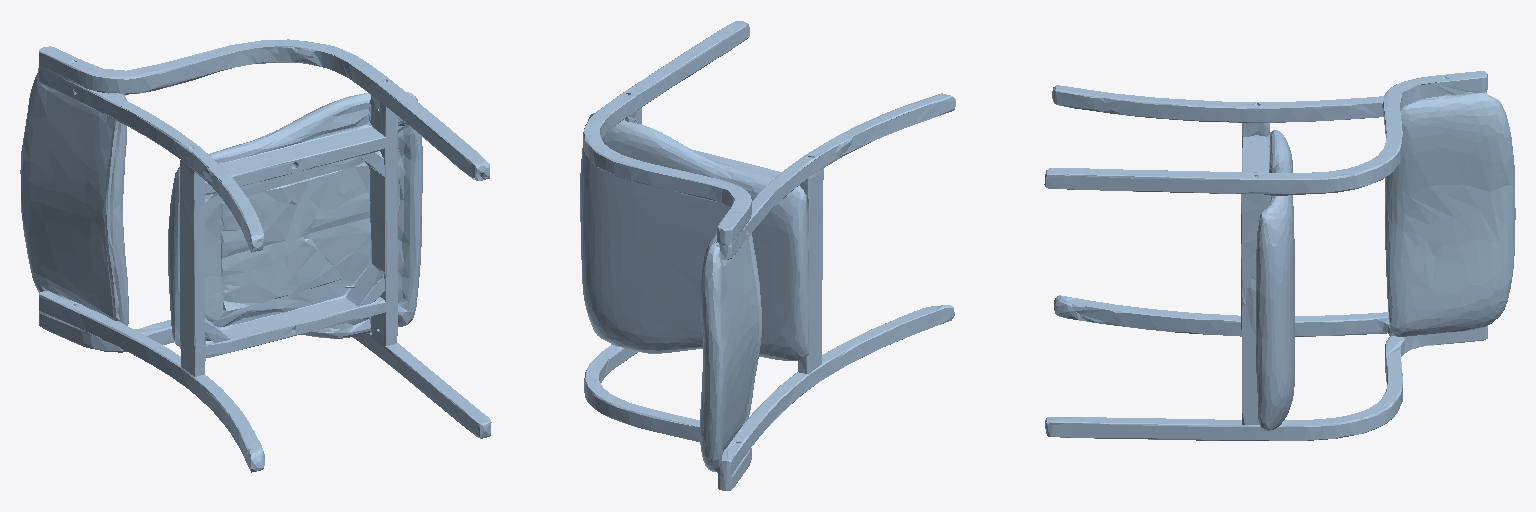
robot.urdf — chair022:
<?xml version="1.0" ?>
<robot name="chair022">
  <dynamics damping="0.5" friction="0.9"/>
  <link name="chair022_link">
    <inertial>
      <mass value="1.0"/>
      <origin xyz="0 0 0"/>
      <inertia ixx="0.01" ixy="0" ixz="0" iyy="0.01" iyz="0" izz="0.01"/>
    </inertial>
    <visual>
      <origin rpy="0 0 0" xyz="0 0 0"/>
      <geometry>
        <mesh filename="chair022.obj" scale="1.0 1.0 1.0"/>
      </geometry>
      <material name="mat">
        <color rgba="0.7 0.8 0.9 0.7"/>
      </material>
    </visual>
    <collision name="chair022">
      <origin rpy="0 0 0" xyz="0 0 0"/>
      <geometry>
        <mesh filename="chair022.obj" scale="1.0 1.0 1.0"/>
      </geometry>
    </collision>
  </link>
</robot>

--- What the picture shows (computed from the rendered views, not written in the file) ---
Views: 3 orthographic renders of the robot side by side, from view 1: azimuth 30°, elevation 25°; view 2: azimuth 150°, elevation 25°; view 3: azimuth 270°, elevation 25°.
Robot: chair022 — 1 links, 0 joints (none); root link chair022_link; default pose: all joints at 0.
Visible links, largest first — view 1: chair022_link; view 2: chair022_link; view 3: chair022_link.
Boxes of the visible links, x1,y1,x2,y2 form: chair022_link: (20, 39, 491, 472); chair022_link: (580, 21, 955, 490); chair022_link: (1044, 71, 1515, 440).
Bounding box of the posed robot: 0.5683 × 0.8596 × 0.5342 m (x, y, z).
1 mesh visuals loaded from 1 distinct referenced files (1 OBJ).
